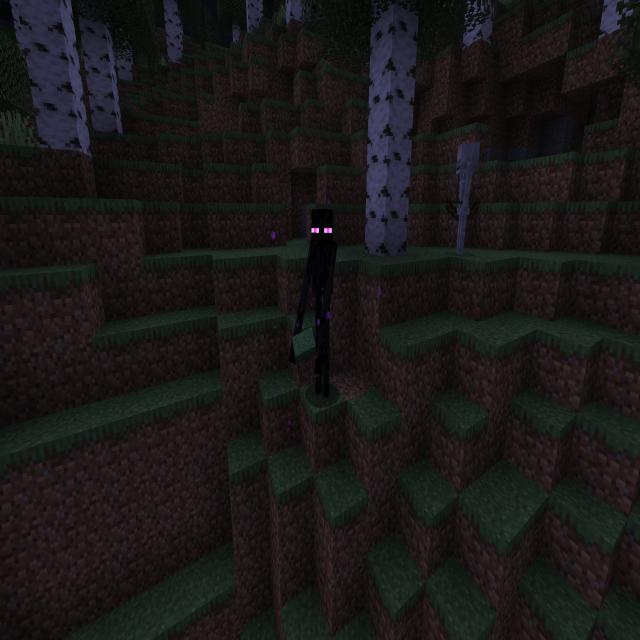Enderman: (288, 204, 339, 403)
